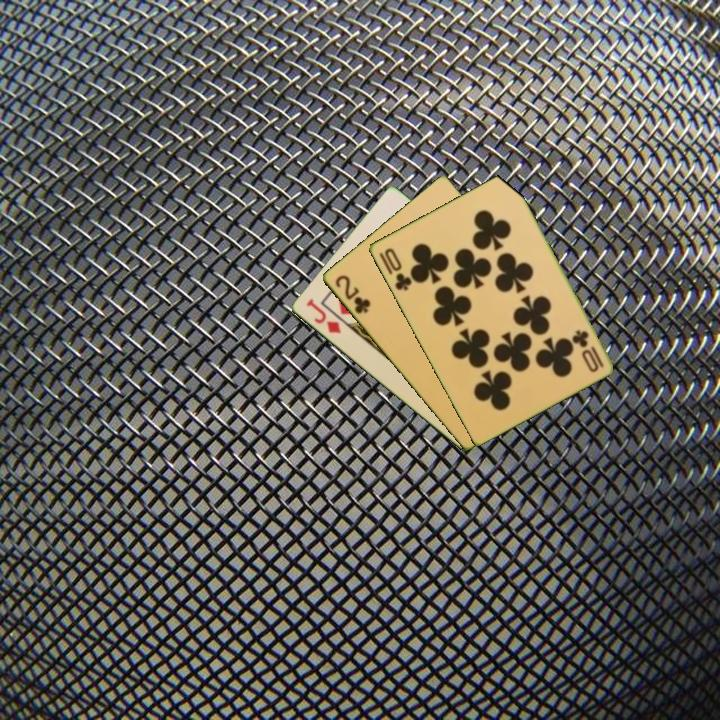10c: (380, 244, 414, 294), (569, 326, 606, 370)
2c: (331, 271, 373, 317)
Jd: (302, 295, 344, 337)
